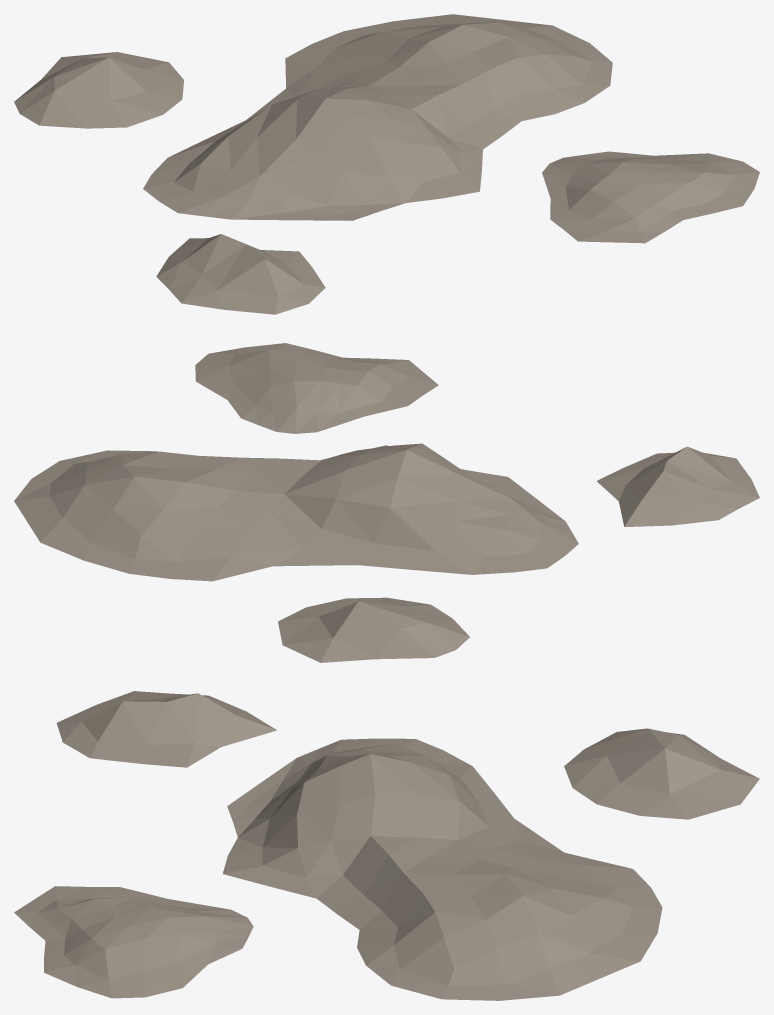
3 views of the same model, one above another, from view 1: azimuth 30°, elevation 25°; view 2: azimuth 150°, elevation 25°; view 3: azimuth 270°, elevation 25° (orthographic). The views are drawn at different scales.
Visible parts, largest first — view 1: deposit_01; view 2: deposit_01; view 3: deposit_01.
Boxes of the visible parts, box(x1,y1,x2,y2) form: deposit_01: box(14, 14, 759, 314); deposit_01: box(14, 343, 759, 662); deposit_01: box(14, 691, 759, 1000).
Size of the model in its own units: 10.63 by 1.17 by 10.82.
Materials: 1 (1 with a texture image).
